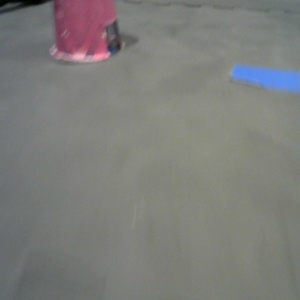middle: (48, 1, 126, 63)
